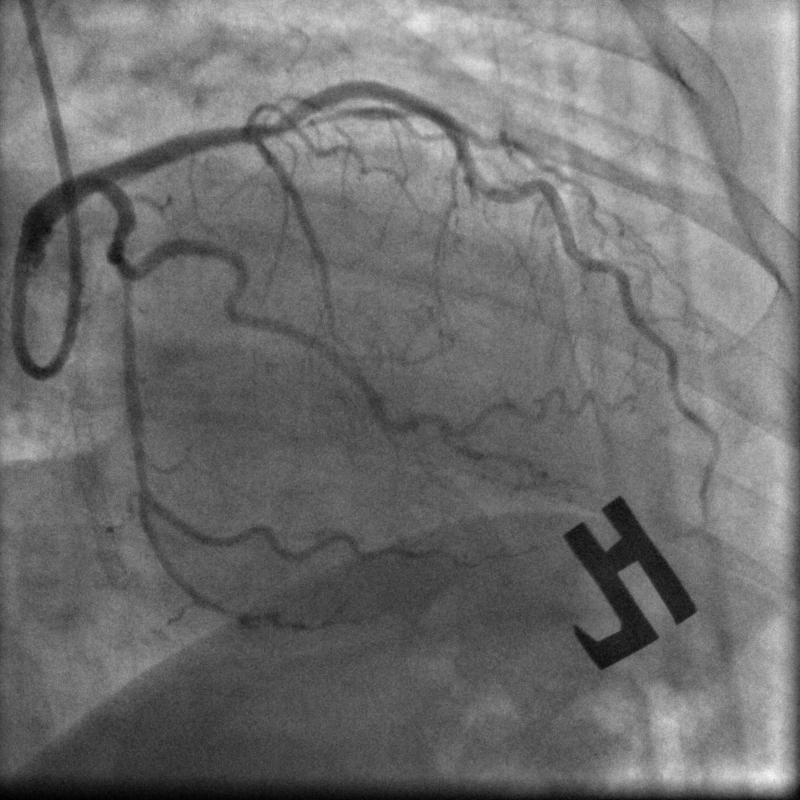Stenosis: (114, 220, 145, 284)
